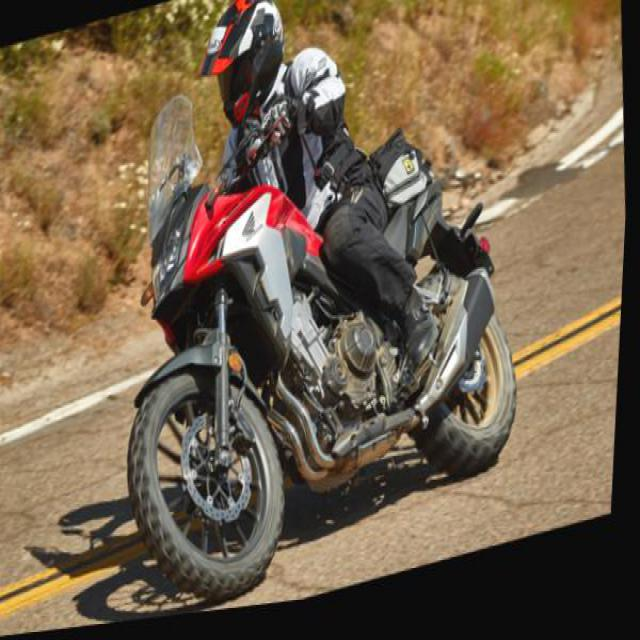CB500X: (99, 15, 546, 628)
